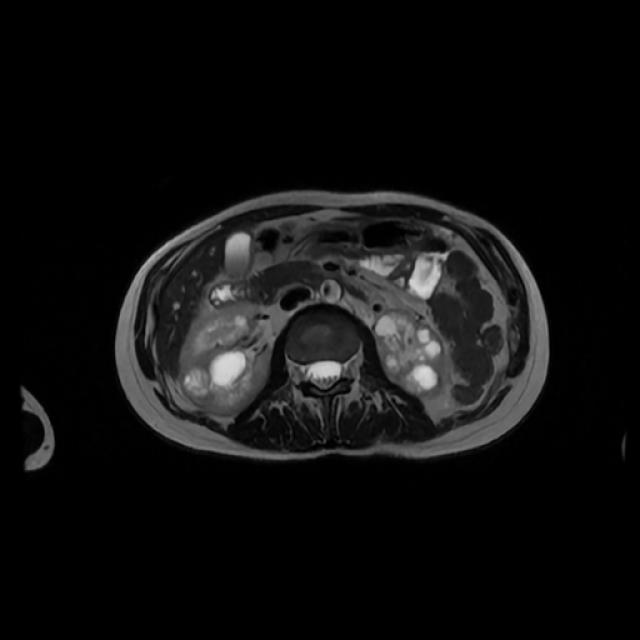sag: (178, 303, 272, 416)
sol: (376, 308, 448, 394)
